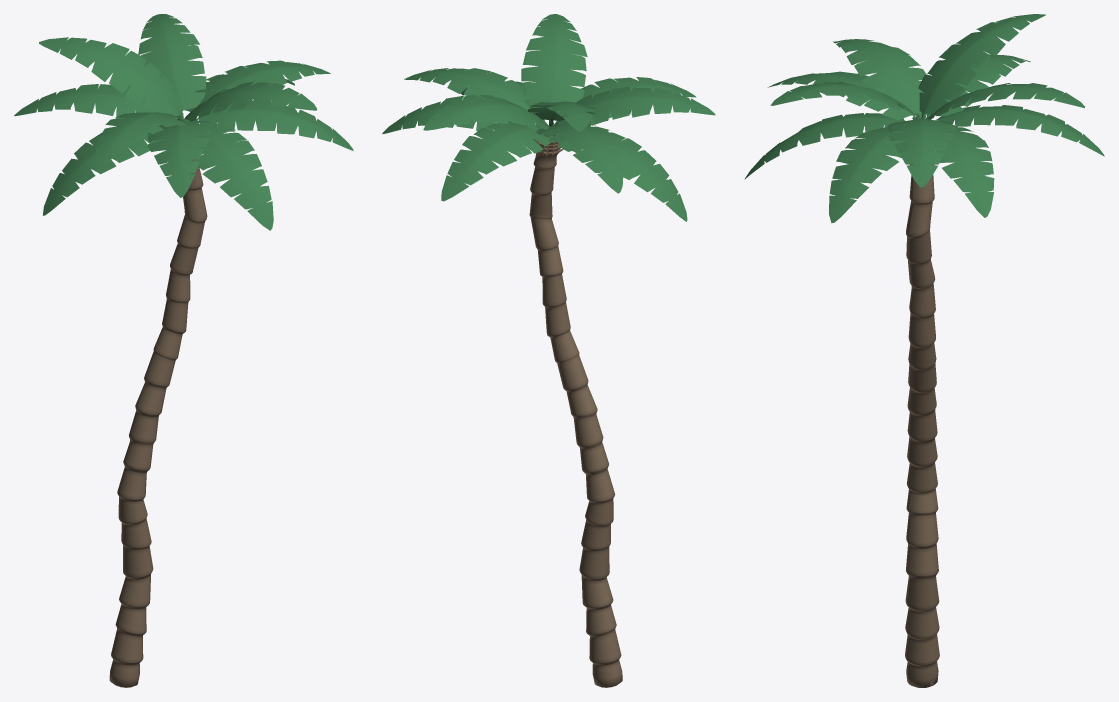
The model's file is PalmTree07.fbx.
3 views of the same model, side by side, from view 1: azimuth 30°, elevation 25°; view 2: azimuth 150°, elevation 25°; view 3: azimuth 270°, elevation 25° (orthographic). The views are drawn at different scales.
Parts seen in each view (by area): view 1: PalmTree07; view 2: PalmTree07; view 3: PalmTree07.
Part boxes in pixels (<box>): PalmTree07: <box>14,14,353,687</box>; PalmTree07: <box>382,14,715,687</box>; PalmTree07: <box>744,14,1104,687</box>.
Bounding box in the file's own units: 0.324 × 0.6604 × 0.327.
